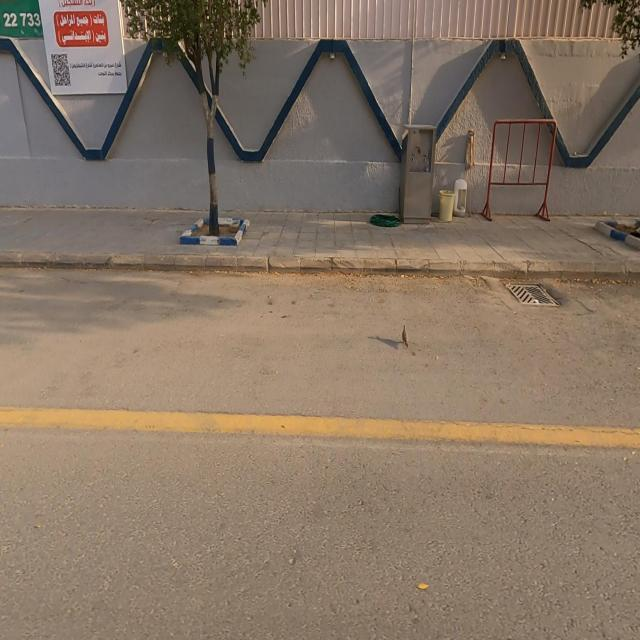debris: (338, 174, 423, 264), (440, 141, 486, 248)
